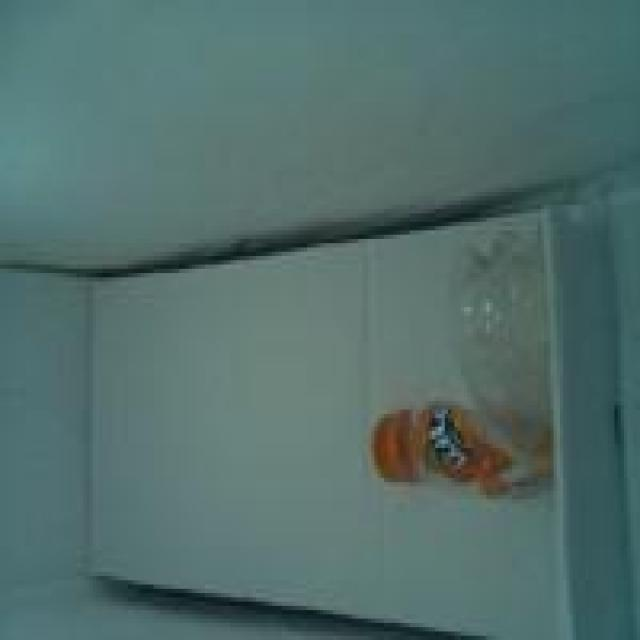bottle: (345, 238, 588, 532)
